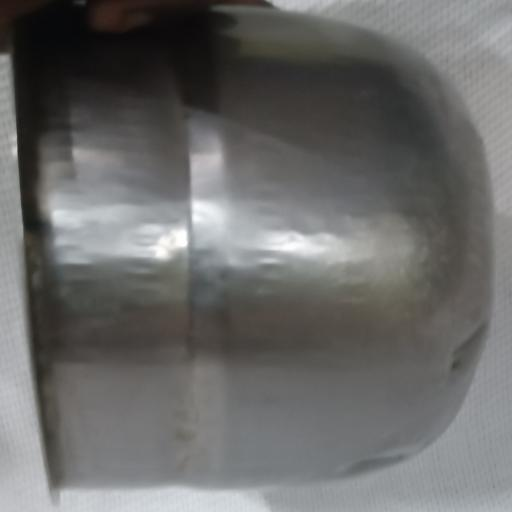vessel: (15, 8, 492, 489)
